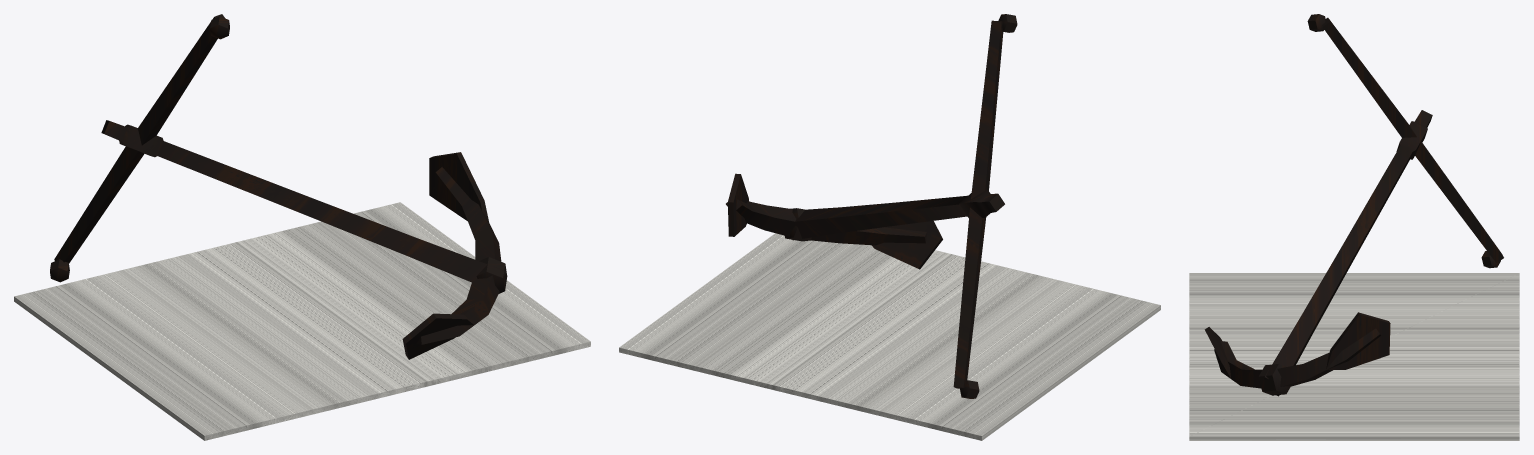
File: SM_Morin_AncoraMonumento_LOD2.fbx
The picture shows the model from 3 angles, left to right: view 1: azimuth 30°, elevation 25°; view 2: azimuth 150°, elevation 25°; view 3: azimuth 270°, elevation 25°; orthographic projection. The views are drawn at different scales.
Parts seen in each view (by area): view 1: SM_Morin_AncoraMonumento_LOD2; view 2: SM_Morin_AncoraMonumento_LOD2; view 3: SM_Morin_AncoraMonumento_LOD2.
Boxes of the visible parts, x1,y1,x2,y2 form: SM_Morin_AncoraMonumento_LOD2: (14,14,590,440); SM_Morin_AncoraMonumento_LOD2: (619,14,1160,440); SM_Morin_AncoraMonumento_LOD2: (1189,14,1519,440).
Bounding box in the file's own units: 316 × 270 × 272.
Materials: 2 (2 with a texture image).
